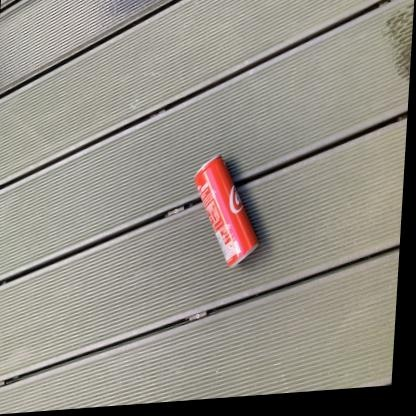trash: (195, 155, 257, 265)
